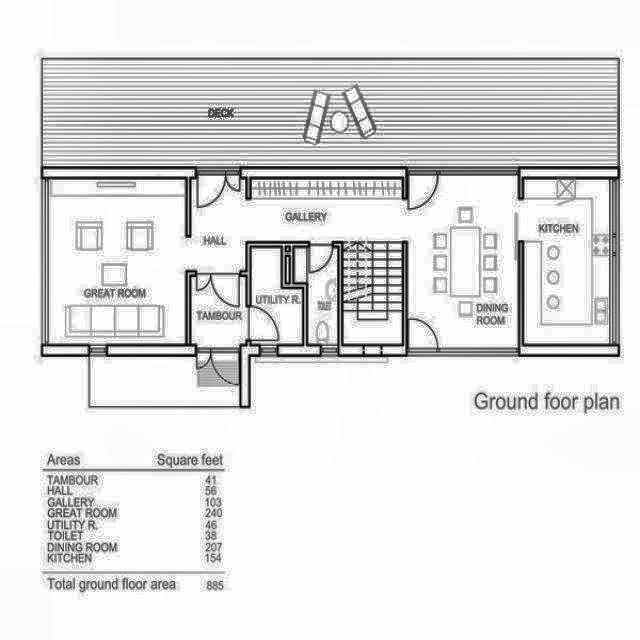room: (49, 174, 610, 349), (344, 244, 402, 345), (251, 248, 302, 345), (294, 247, 338, 344), (191, 277, 246, 344)
